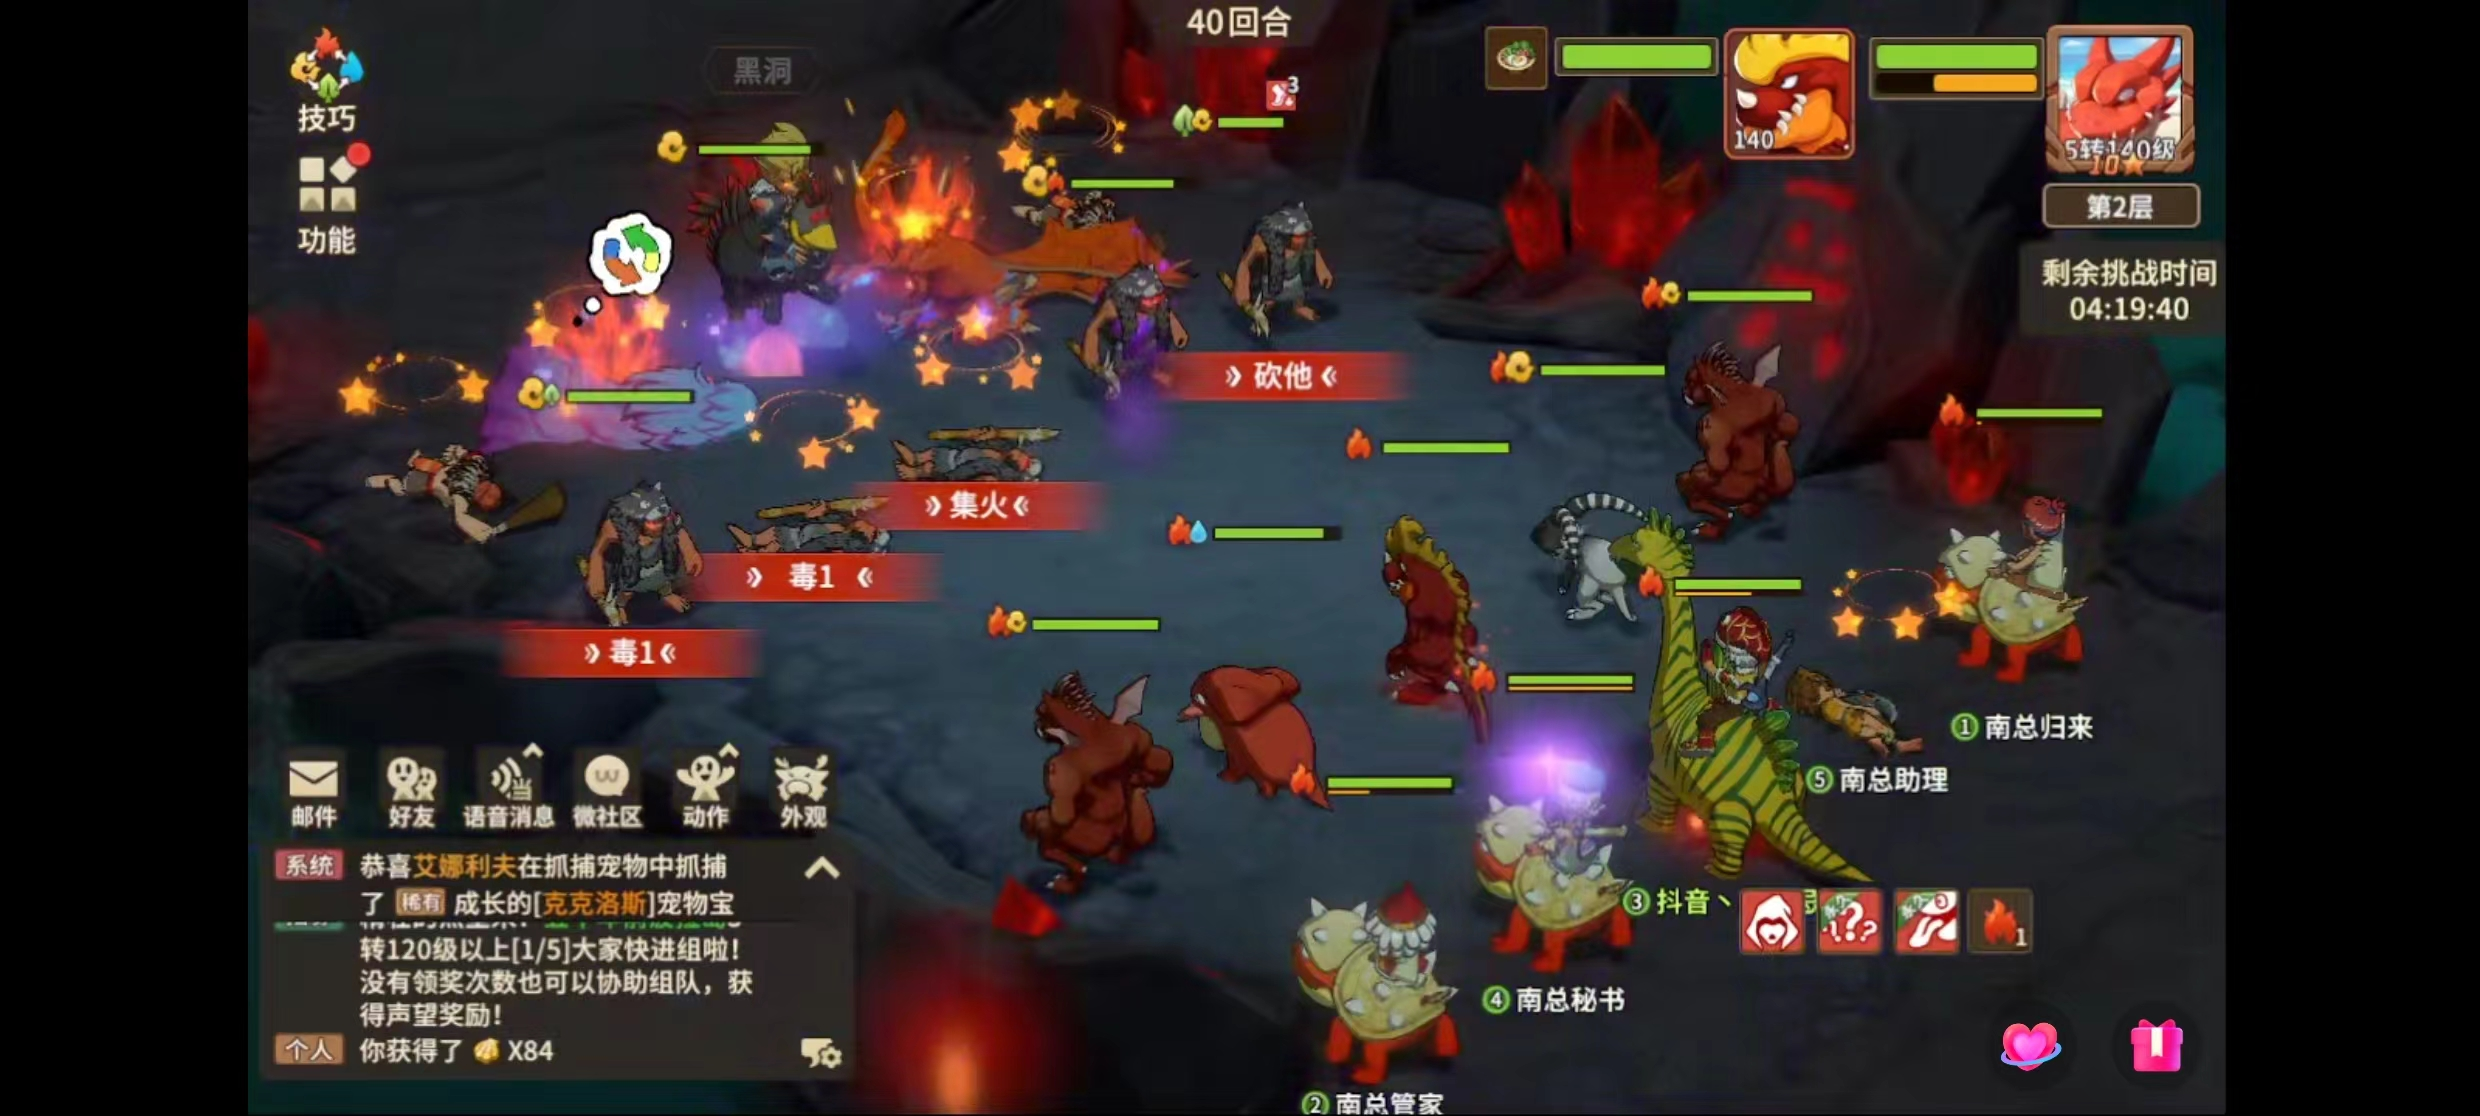葛雷吉鲁: (1012, 662, 1181, 912), (1664, 334, 1811, 555)
